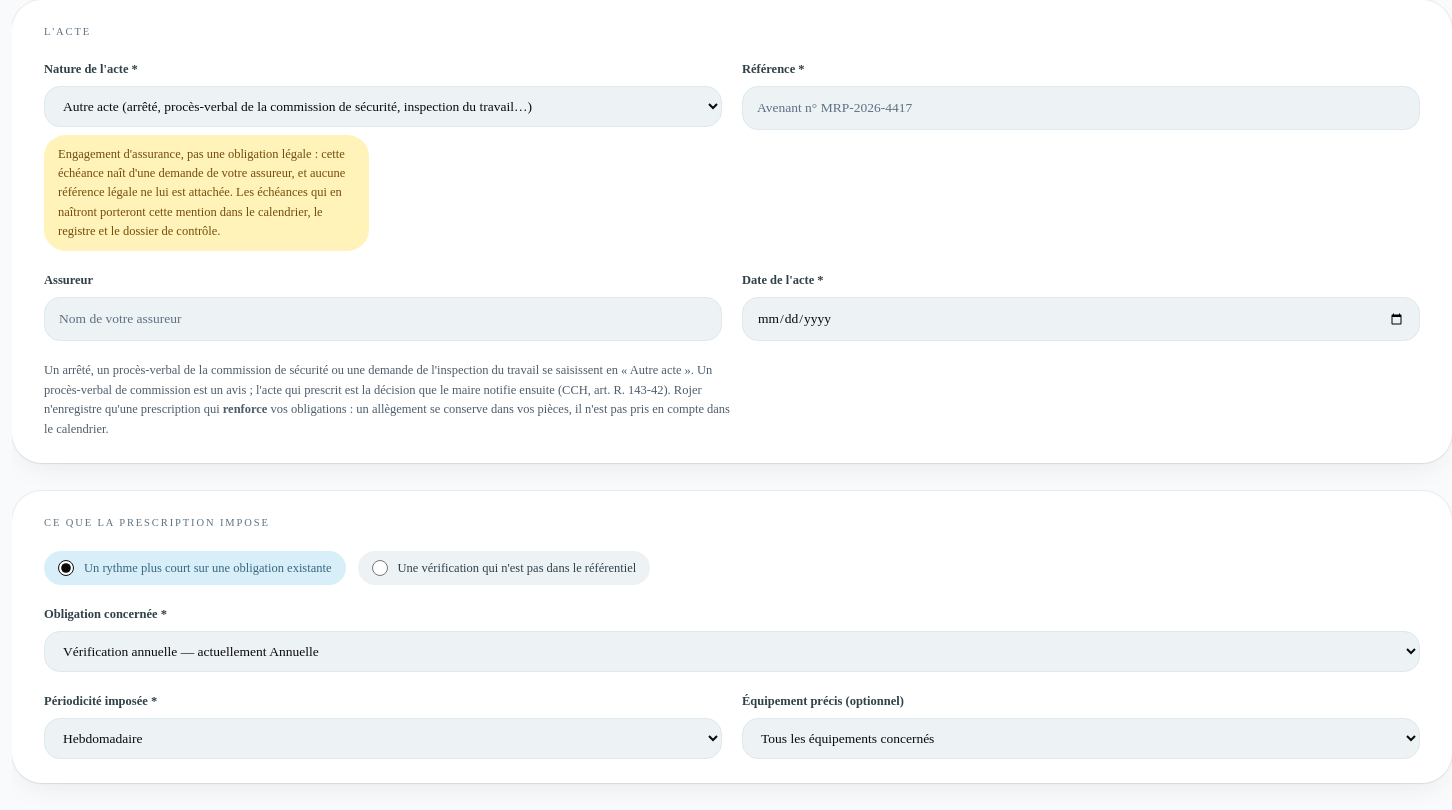
Test case: le marquage contractuel suit le champ qui le déclenche › après enregistrement, le champ ET le bandeau repartent ensemble
Select "Autre acte (arrêté, procès-verbal de la commission de sécurité, inspection du tr" in the dropdown labelled "Nature de l'acte *" at [383, 106], box [44, 86, 722, 126]
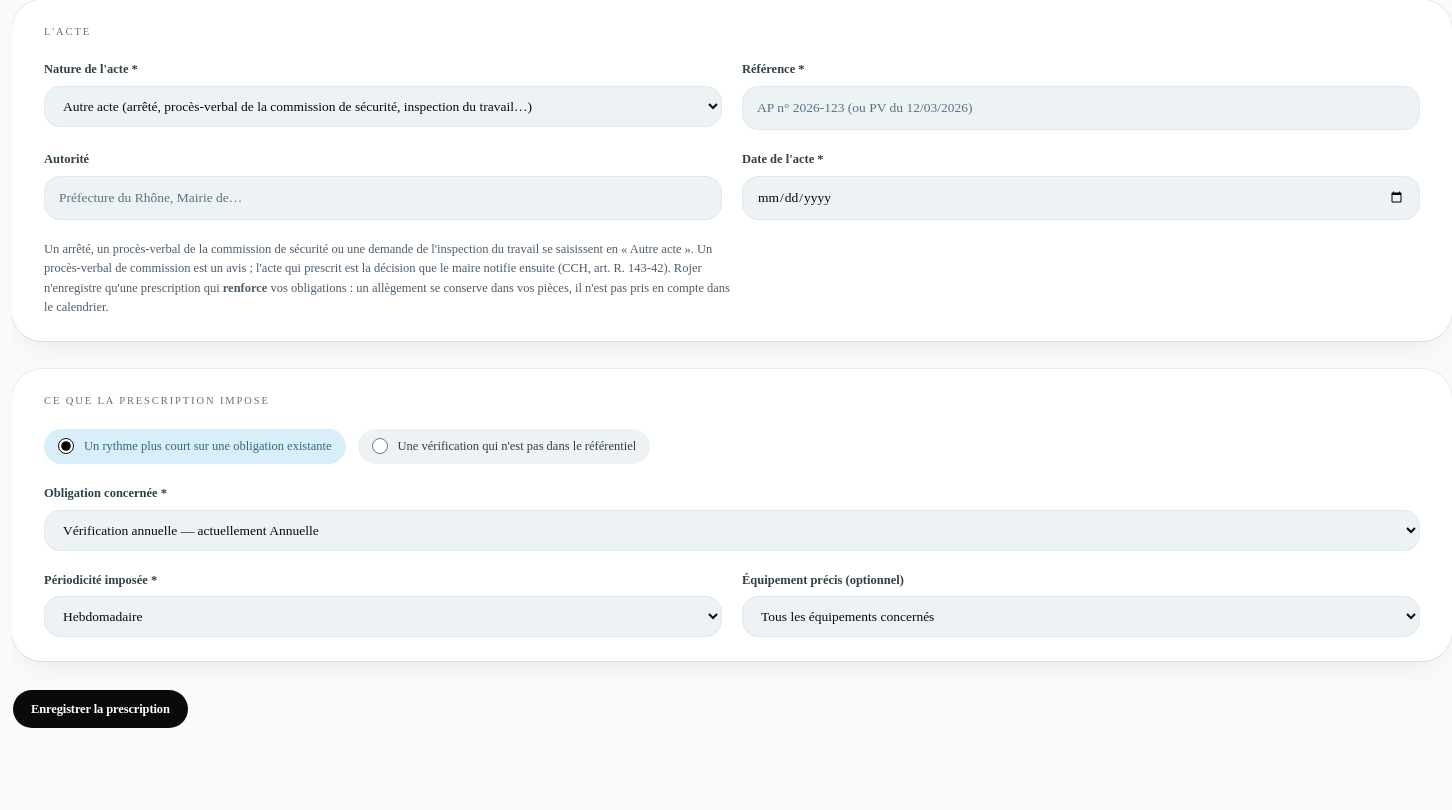
Check: the text "Engagement d'assurance" is gone
Submit the form
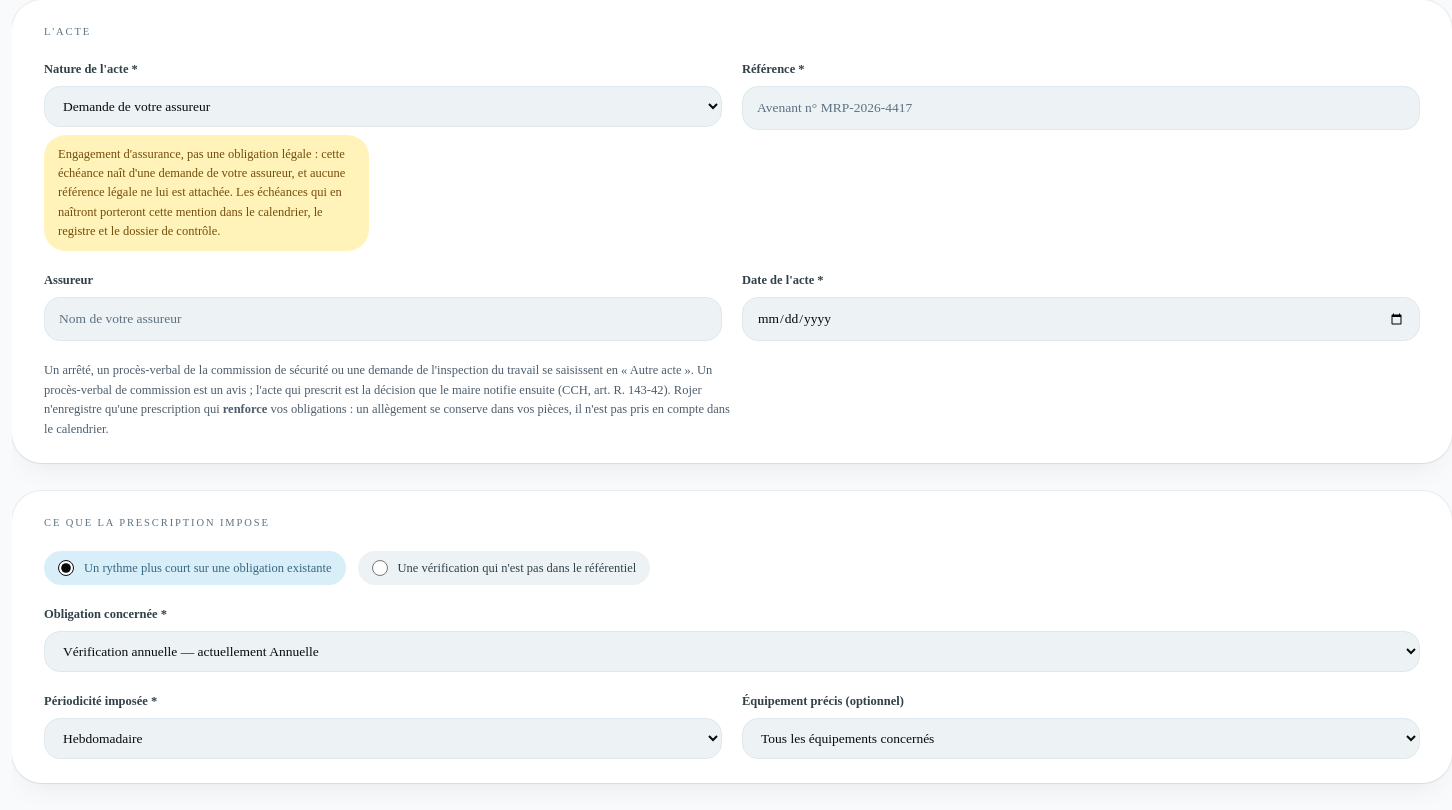
Check: the dropdown labelled "Nature de l'acte *" shows "Demande de votre assureur", box [44, 86, 722, 126]
Check: the text "Engagement d'assurance" is shown, box [58, 146, 345, 199]
